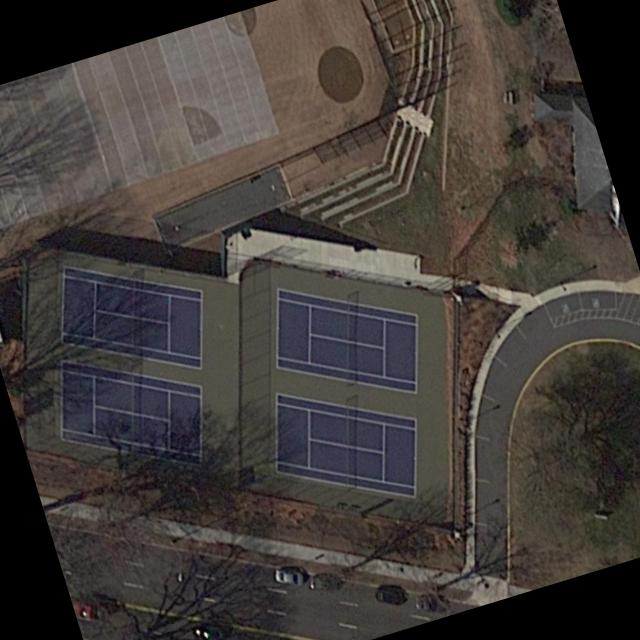small-vehicle: (192, 621, 228, 640), (373, 584, 403, 606), (274, 565, 304, 587)
